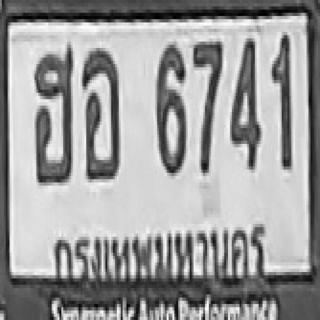A43: (81, 46, 119, 178)
A44: (33, 45, 73, 182)
N01: (269, 34, 290, 168)
N04: (228, 35, 259, 170)
N06: (155, 42, 184, 173)
N07: (192, 38, 222, 173)
P04: (45, 215, 272, 284)
